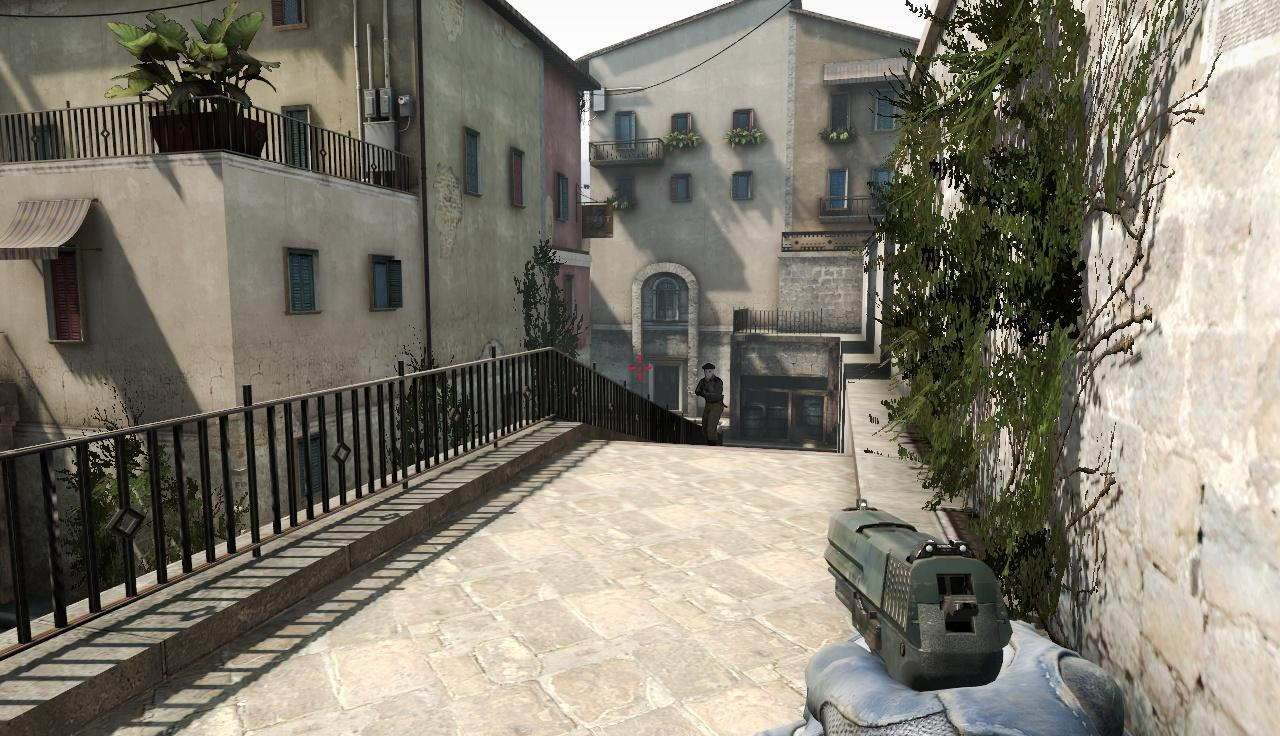pistol: (817, 486, 1088, 736)
tt: (700, 363, 722, 440)
tthead: (703, 363, 714, 379)
